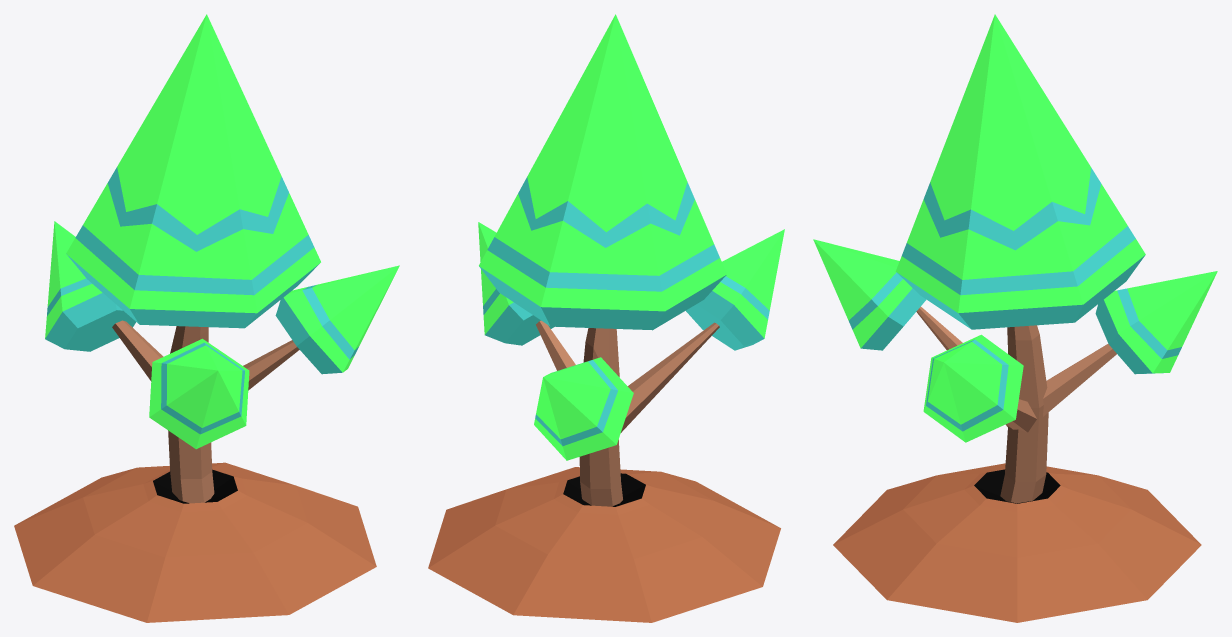
Rendered from tree_sapling_01.fbx.
3 views of the same model, side by side, from view 1: azimuth 30°, elevation 25°; view 2: azimuth 150°, elevation 25°; view 3: azimuth 270°, elevation 25° (orthographic). The views are drawn at different scales.
Visible parts, largest first — view 1: tree_sapling_01; view 2: tree_sapling_01; view 3: tree_sapling_01.
Part boxes in pixels (x1,y1,x2,y2): tree_sapling_01: (14,14,399,622); tree_sapling_01: (428,14,784,622); tree_sapling_01: (813,14,1217,622).
Bounding box in the file's own units: 143 × 234 × 155.
